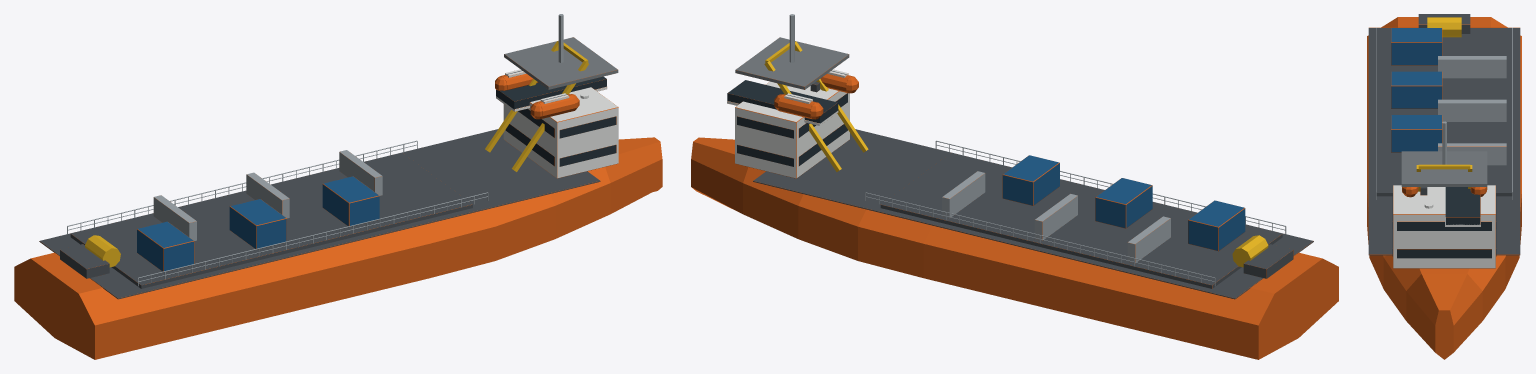
File: off_supply_vessel.glb
3 views of the same model, side by side, from view 1: azimuth 30°, elevation 25°; view 2: azimuth 150°, elevation 25°; view 3: azimuth 270°, elevation 25° (orthographic). The views are drawn at different scales.
Visible parts, largest first — view 1: off_supply_vessel; view 2: off_supply_vessel; view 3: off_supply_vessel.
Part boxes in pixels (x1,y1,x2,y2): off_supply_vessel: [14, 14, 662, 359]; off_supply_vessel: [691, 14, 1338, 359]; off_supply_vessel: [1367, 14, 1521, 359].
Size of the model in its own units: 78 by 24.67 by 18.
